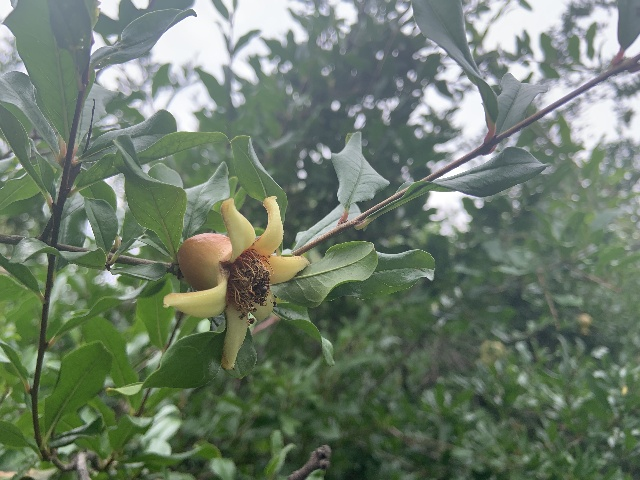early-fruit: (164, 194, 310, 371)
